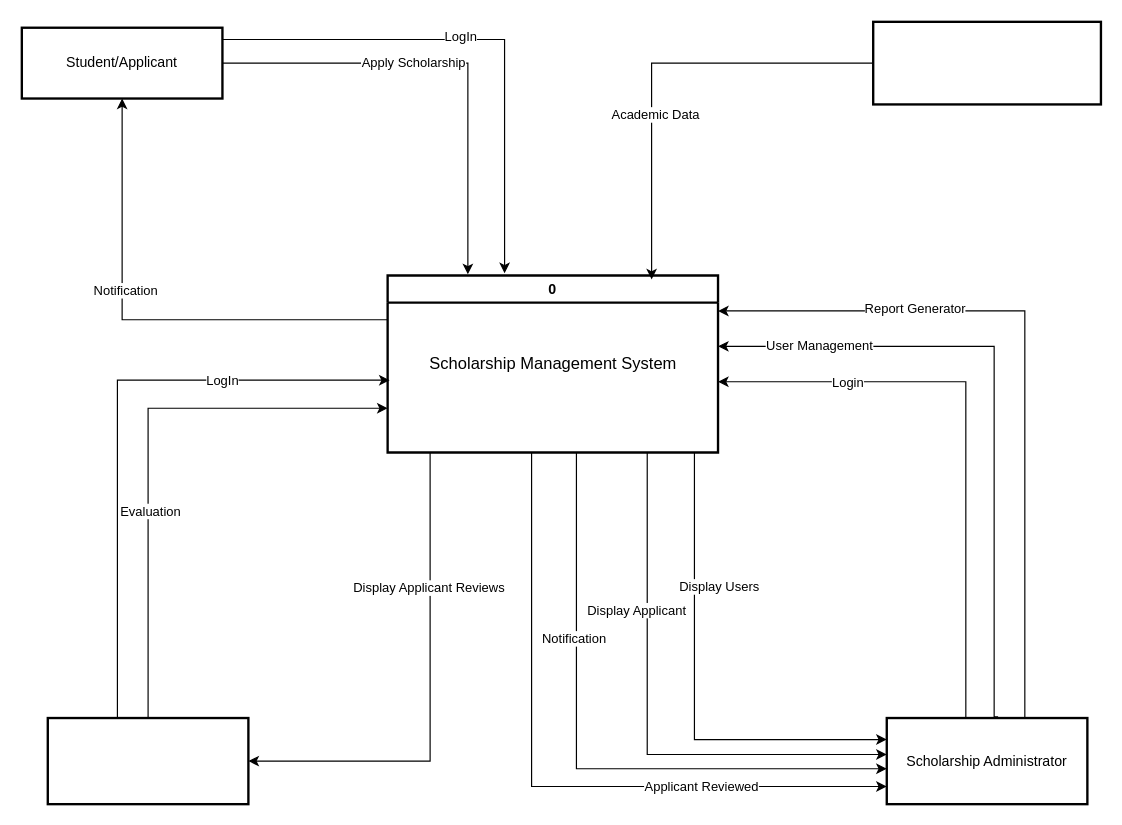
The diagram is 1122 pixels wide and 825 high, and some of its shapes have lost their labels. Here are the shapes that lost their labels. From the top down, the centre of each, then its label:
point 986,62: Student Information System
point 147,760: Scholarship Reviewers
